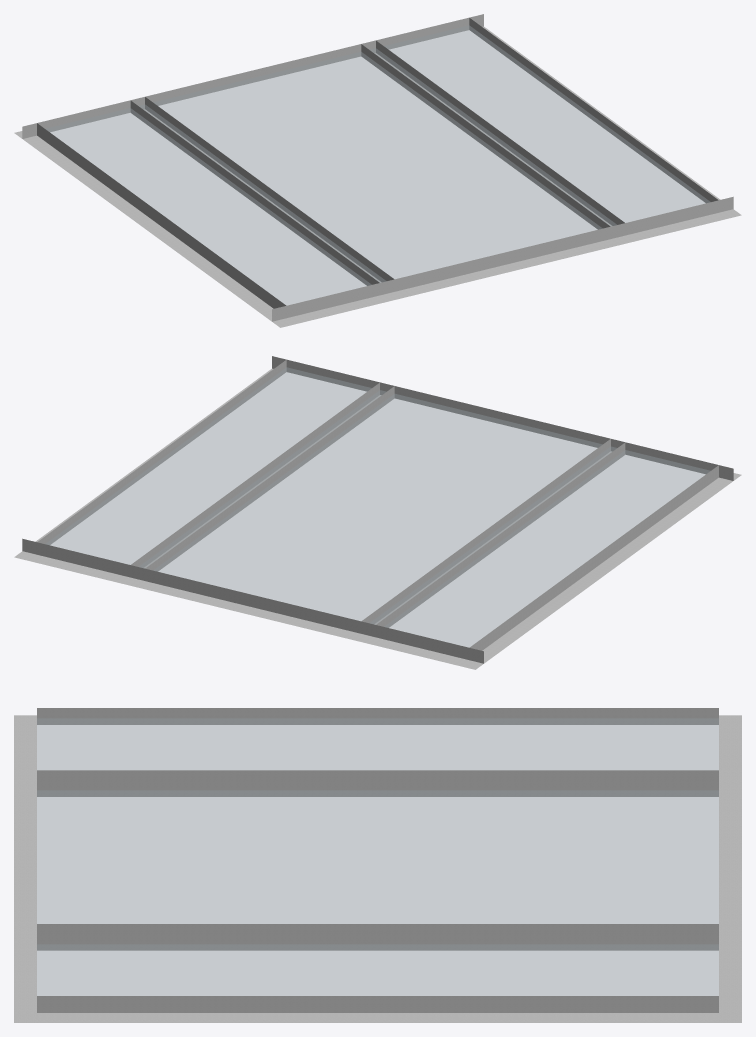
Rendered from Office_Roof_Glass.fbx.
The picture shows the model from 3 angles, top to bottom: view 1: azimuth 30°, elevation 25°; view 2: azimuth 150°, elevation 25°; view 3: azimuth 270°, elevation 25°; orthographic projection. The views are drawn at different scales.
Parts seen in each view (by area): view 1: Office_Roof_Glass; view 2: Office_Roof_Glass; view 3: Office_Roof_Glass.
Part boxes in pixels (x1=…): Office_Roof_Glass: x1=14, y1=14, x2=741, y2=327; Office_Roof_Glass: x1=14, y1=356, x2=741, y2=669; Office_Roof_Glass: x1=14, y1=708, x2=741, y2=1022.
Bounding box in the file's own units: 400 × 10.33 × 400.
